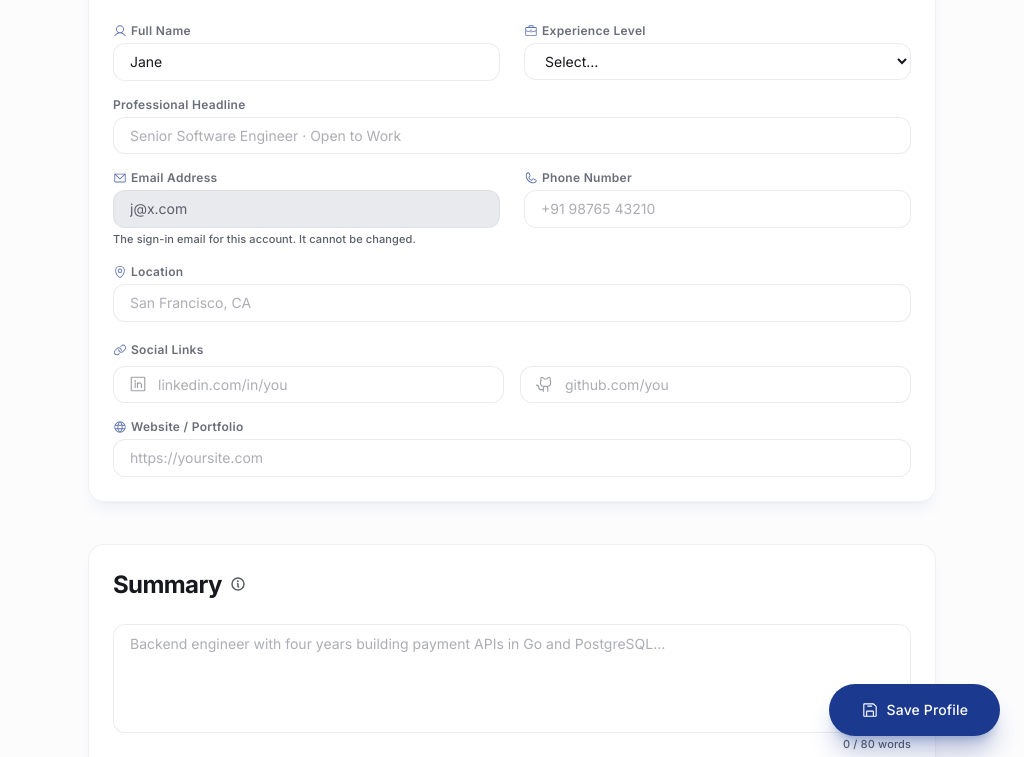
Test: My Profile — LinkedIn and GitHub › flags a link that isn't a profile and won't save it
The width and height of the screenshot is (1024, 757).
(page scrolled)
Step 1. Type "github.com/jane/kripax" into the field named "GitHub profile link" → (716, 384), box [520, 366, 911, 403]
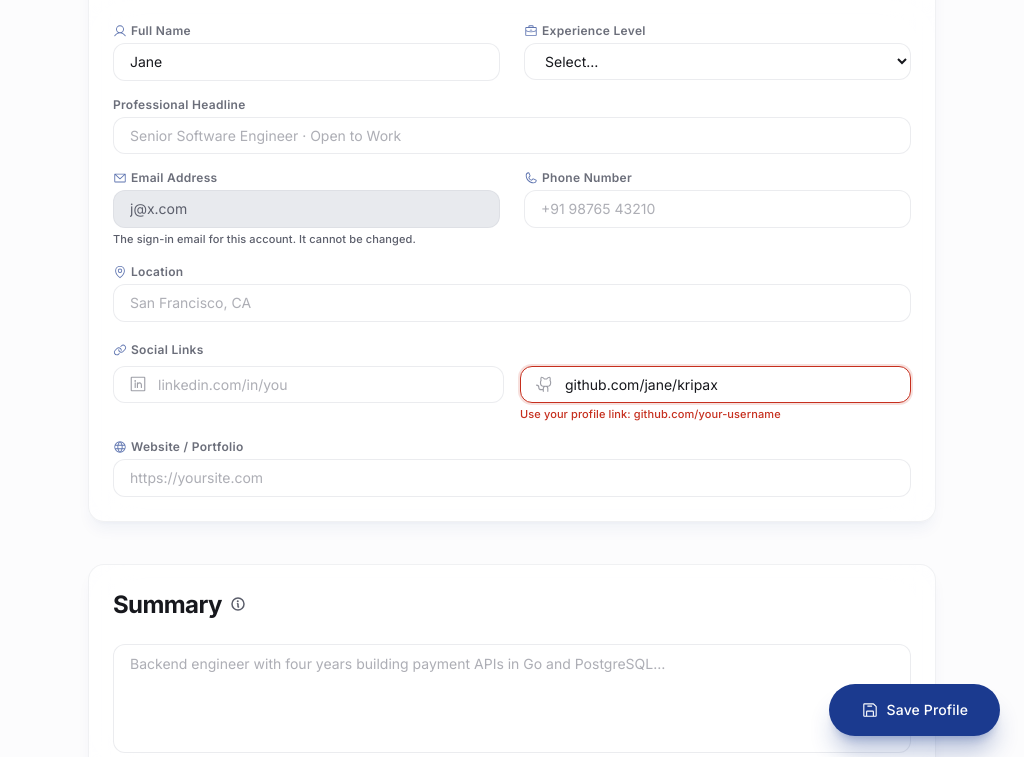
Step 2. Press Tab
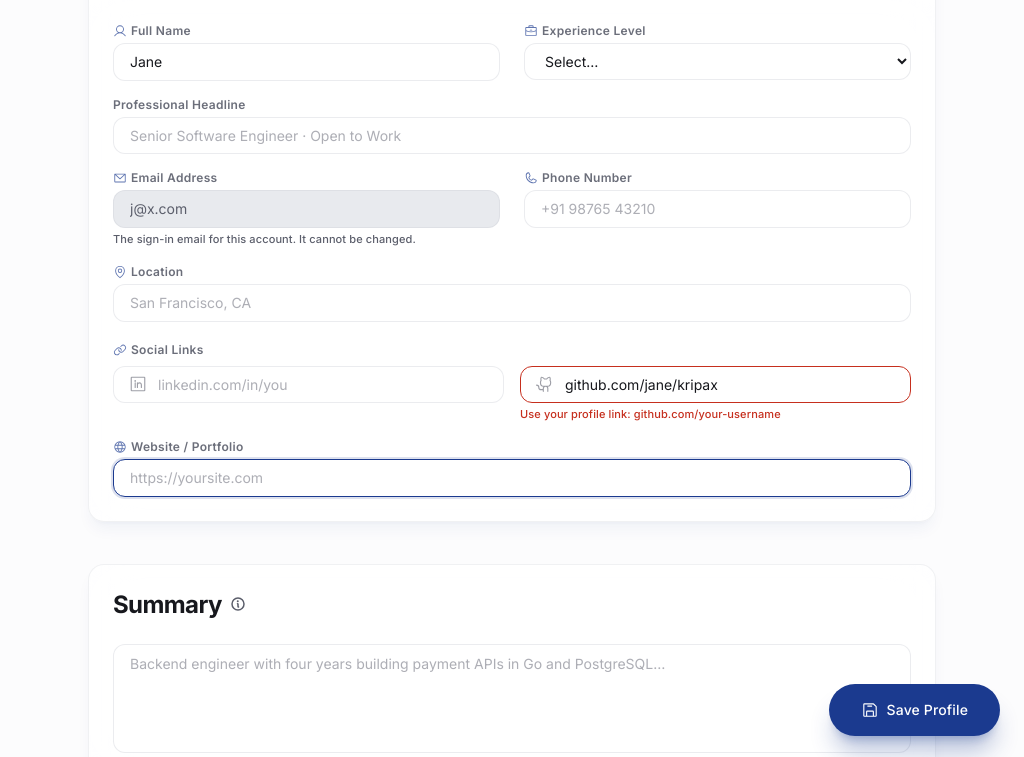
Result: the text "Use your profile link: github.com/your-username" is shown at [520, 407, 781, 421]
Step 3. Click the button "Save Profile" → (914, 710), box [829, 684, 1000, 736]
(page scrolled)
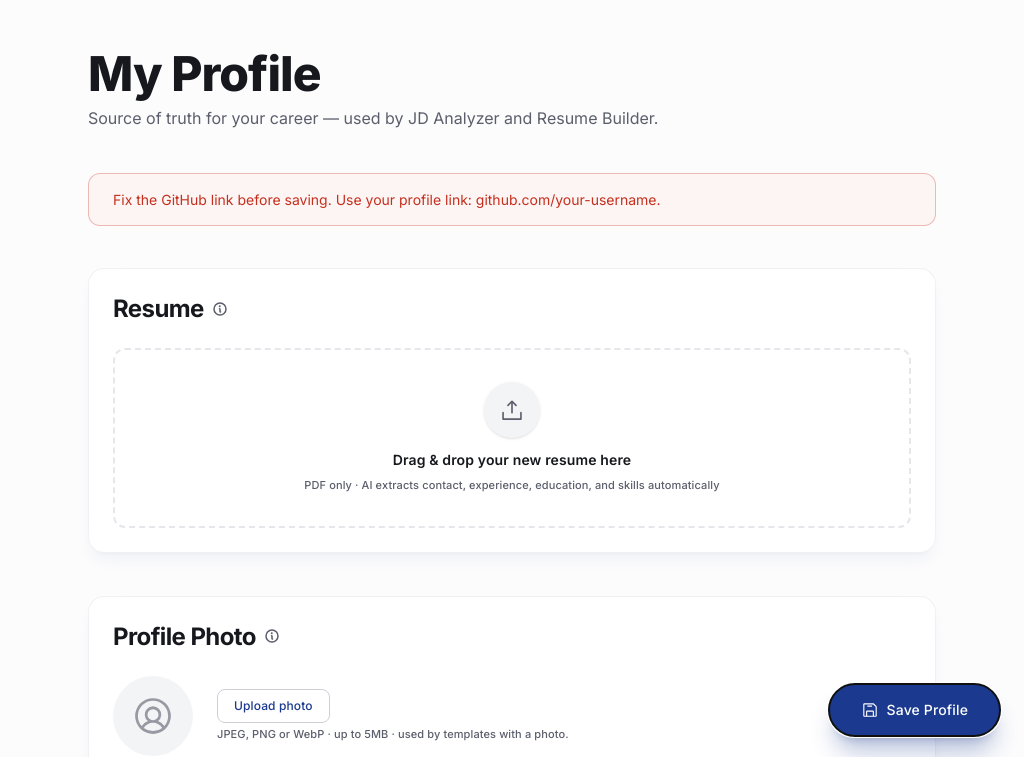
Result: the text "Fix the GitHub link before saving" is shown at [113, 191, 661, 208]
